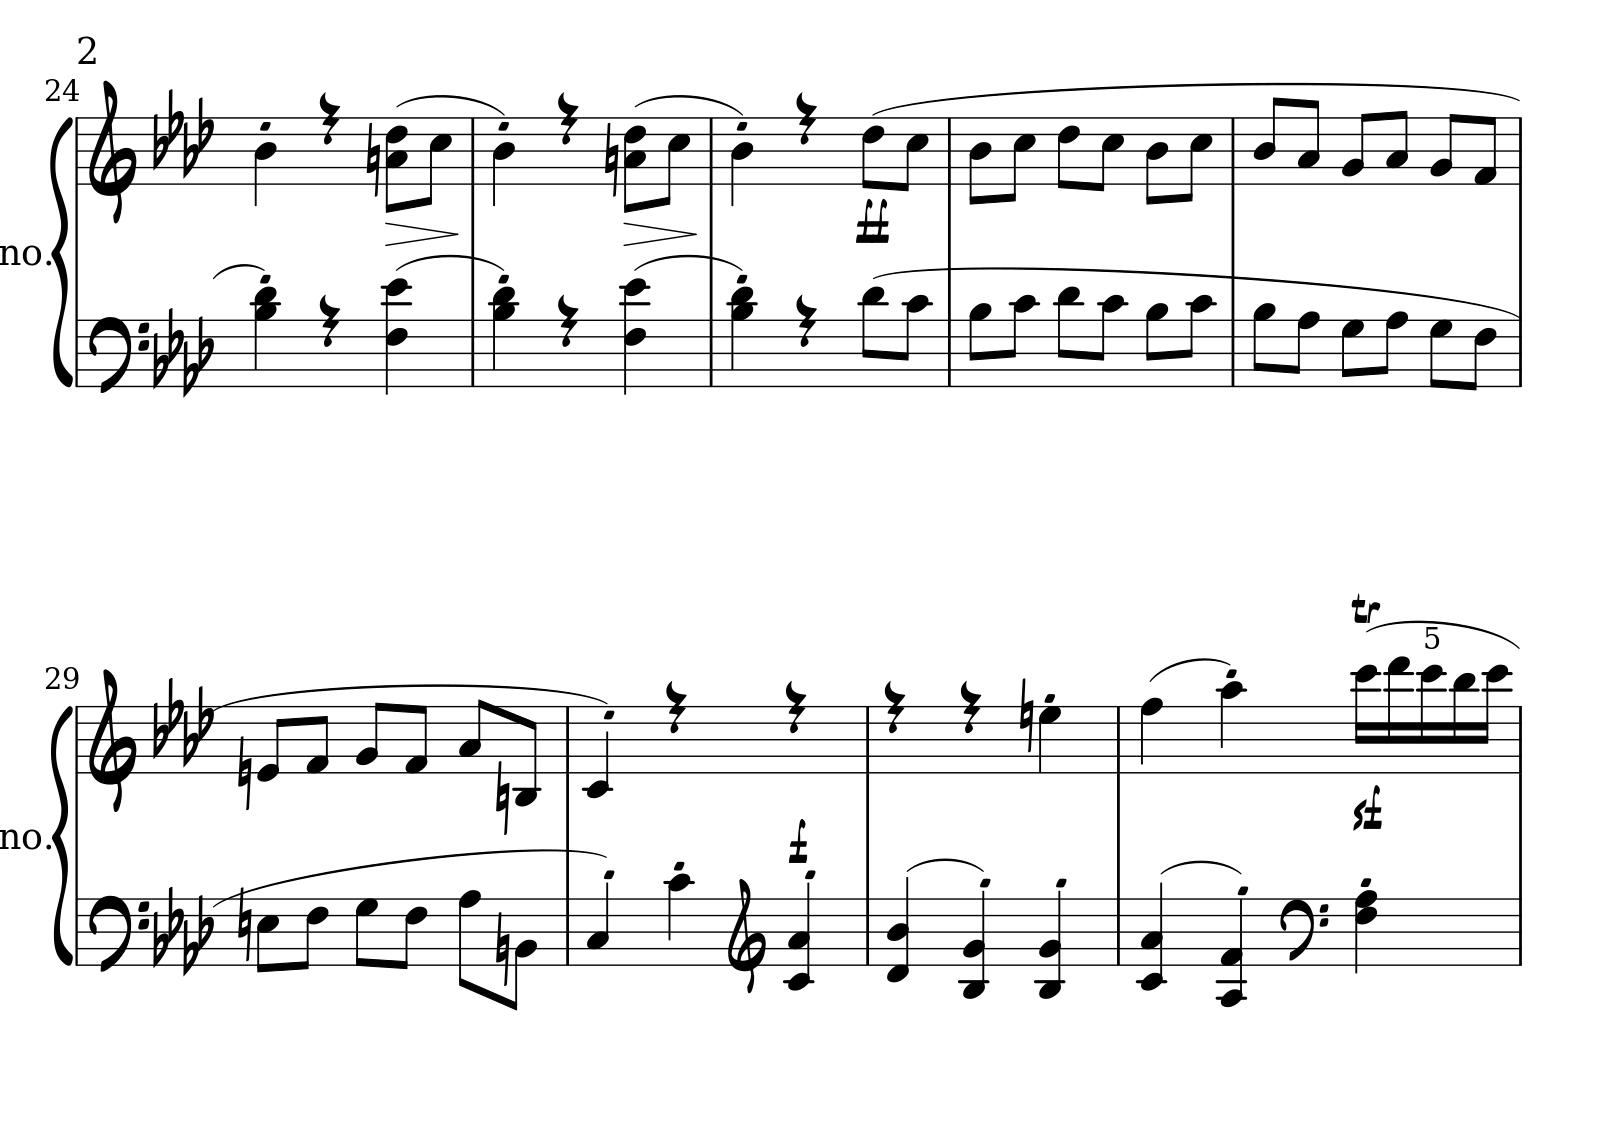16_11: (1450, 671, 1477, 776)
16_12: (1478, 663, 1511, 775), (1351, 662, 1380, 775), (1419, 663, 1445, 775)
16_13: (1384, 655, 1412, 776)
2: (75, 34, 97, 64), (44, 663, 61, 692), (44, 76, 61, 103)
4: (61, 76, 79, 103)
4_-1_4: (883, 879, 912, 984)
4_-2: (582, 704, 612, 800)
4_-2_3: (1133, 882, 1171, 992), (784, 881, 817, 993)
4_-3_2: (1032, 892, 1067, 1001), (958, 892, 992, 999)
4_-4_1: (1215, 896, 1251, 1007)
4_10: (1218, 681, 1245, 776), (667, 874, 693, 969)
4_3: (587, 883, 611, 966)
4_4: (253, 117, 279, 206), (491, 117, 517, 206), (729, 117, 755, 206)
4_6_12: (379, 276, 411, 397), (618, 277, 650, 395)
4_6_8: (1353, 888, 1380, 976)
4_7: (1037, 704, 1063, 775)
4_8: (1138, 696, 1164, 776)
4_9_11: (488, 286, 521, 389), (726, 283, 758, 387), (250, 286, 282, 387)
5: (1422, 626, 1443, 652)
8_-3: (514, 706, 541, 808)
8_0: (257, 705, 288, 783)
8_1: (403, 703, 430, 776), (304, 704, 331, 776), (1472, 115, 1497, 188)
8_10: (1180, 293, 1217, 389), (1003, 292, 1039, 389), (897, 293, 932, 389), (1092, 293, 1128, 389)
8_11: (1054, 283, 1083, 389), (859, 283, 886, 389)
8_2: (510, 896, 539, 1014), (1428, 112, 1461, 186), (354, 700, 386, 775), (1340, 111, 1371, 186)
8_3: (457, 696, 488, 775), (1296, 98, 1321, 187), (1384, 109, 1409, 187)
8_3_6: (385, 116, 411, 215), (622, 115, 648, 214)
8_4: (1252, 97, 1285, 186), (967, 116, 992, 206), (1144, 117, 1169, 206)
8_5: (657, 116, 692, 208), (419, 115, 452, 208), (1180, 115, 1213, 204), (1004, 116, 1036, 203), (897, 116, 929, 193), (1094, 116, 1124, 193), (255, 897, 280, 974)
8_6: (296, 897, 330, 971), (1466, 318, 1498, 392), (397, 896, 428, 971), (860, 115, 885, 191), (1057, 115, 1081, 191)
8_7: (1428, 318, 1454, 390), (1340, 316, 1365, 389), (354, 896, 378, 968)
8_8: (1375, 309, 1409, 389), (1285, 310, 1320, 389), (456, 888, 481, 992)
8_9: (1142, 302, 1169, 389), (967, 302, 992, 389), (1250, 302, 1276, 389)
9: (62, 663, 79, 690)
A_F: (152, 87, 216, 178), (152, 883, 214, 975), (152, 676, 214, 766), (152, 307, 213, 396)
Brace: (51, 114, 73, 390), (53, 700, 73, 968)
Diminuendo_hairpin: (619, 220, 698, 247), (384, 220, 458, 246)
Fclef: (87, 893, 148, 975), (88, 314, 148, 396), (1279, 896, 1329, 968)
Gclef: (86, 667, 138, 813), (86, 79, 137, 224), (726, 877, 769, 995)
Natural: (364, 119, 382, 202), (492, 759, 512, 836), (1017, 677, 1035, 755), (604, 120, 621, 200), (236, 886, 253, 963), (236, 734, 253, 810), (494, 912, 511, 986)
Rests4: (555, 292, 580, 349), (663, 679, 689, 736), (957, 679, 982, 736), (555, 90, 579, 149), (316, 292, 341, 349), (783, 678, 808, 736), (882, 678, 907, 736), (318, 90, 341, 148), (794, 90, 817, 148), (794, 292, 817, 349)
Single_barline: (1109, 897, 1127, 965), (466, 119, 483, 185), (704, 119, 721, 183), (1226, 318, 1241, 386), (466, 318, 481, 385), (1513, 705, 1529, 771), (560, 706, 576, 772), (1111, 706, 1127, 772), (560, 898, 576, 964), (859, 706, 875, 771), (1513, 899, 1529, 963), (1226, 116, 1240, 185), (942, 318, 957, 386), (942, 117, 957, 185), (704, 318, 718, 385), (860, 898, 875, 964), (1514, 116, 1527, 185), (72, 117, 86, 185), (71, 899, 84, 963), (72, 705, 84, 773), (1513, 332, 1527, 387), (72, 320, 84, 385)
Slur: (637, 92, 743, 115), (1149, 656, 1232, 683), (400, 93, 503, 114), (637, 254, 744, 271), (398, 254, 505, 271), (1160, 858, 1241, 876), (907, 857, 984, 874), (215, 261, 261, 279)
Trill: (1348, 590, 1382, 624)
f: (786, 817, 810, 865)
ff: (855, 195, 890, 246)
sf: (1351, 784, 1384, 832)
